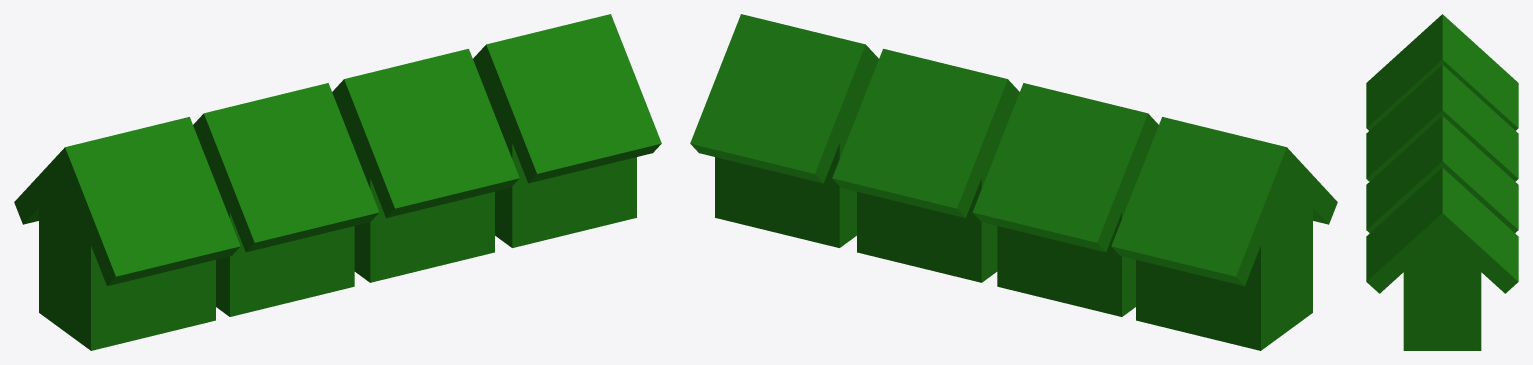
The model's file is maison4.glb.
3 renders of one model, left to right at view 1: azimuth 30°, elevation 25°; view 2: azimuth 150°, elevation 25°; view 3: azimuth 270°, elevation 25°, orthographic. The views are drawn at different scales.
Parts seen in each view (by area): view 1: Cube; view 2: Cube; view 3: Cube.
Part boxes in pixels (x1,y1,x2,y2): Cube: (14, 14, 661, 350); Cube: (690, 14, 1337, 350); Cube: (1366, 14, 1518, 350).
Bounding box in the file's own units: 1.38 × 0.4469 × 0.4467.
